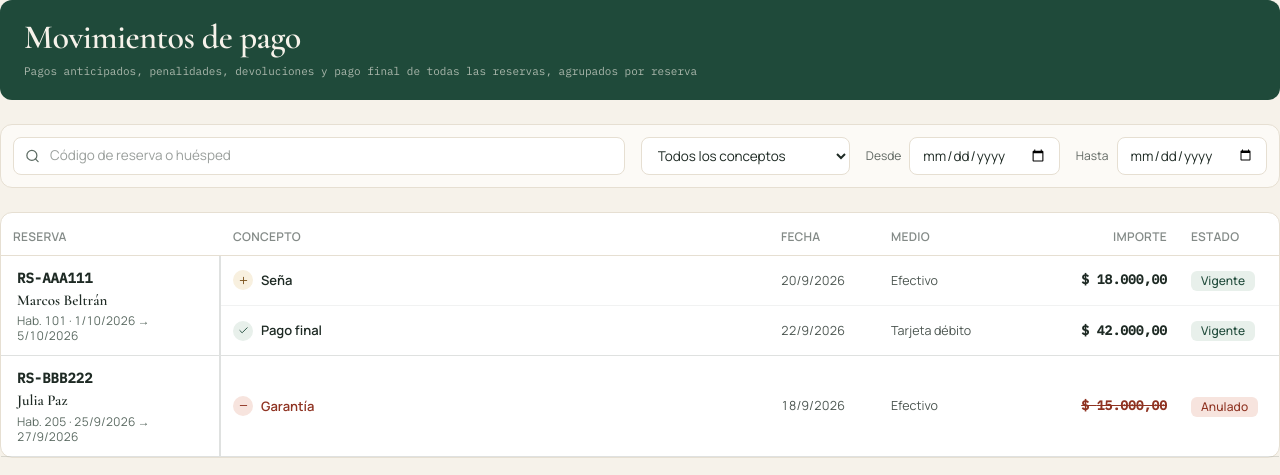
MovimientosPagoPage › filtrar por concepto muestra el grupo completo de la reserva, no solo el movimiento que matchea
Check: the text "Marcos Beltrán" is shown, box [17,291,107,309]
Step 1. Select "Seña" in the dropdown → (745, 156), box [641,137,850,175]
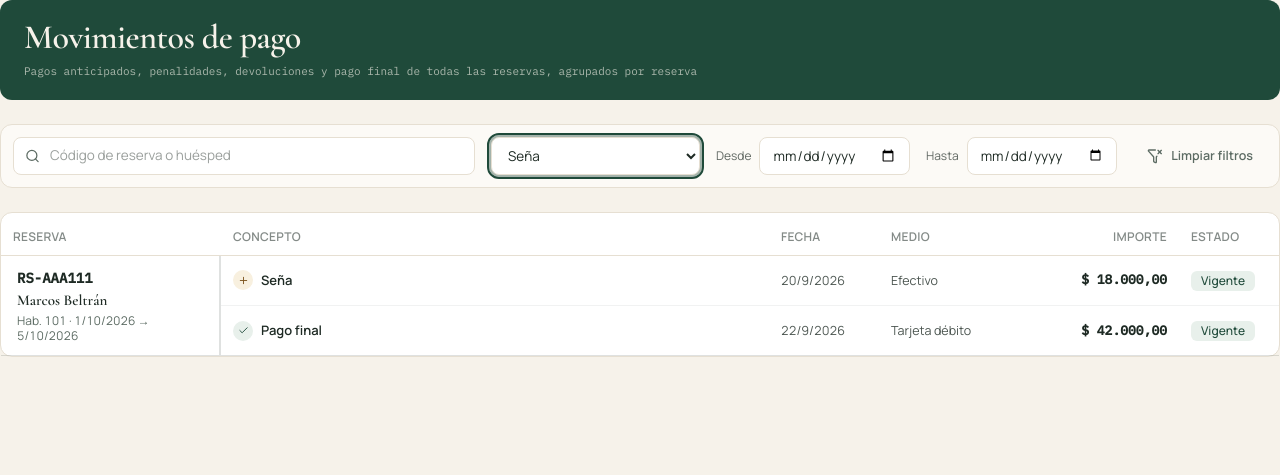
Check: the text "RS-AAA111" is shown, box [17,268,93,288]
Check: the text "RS-BBB222" is gone
